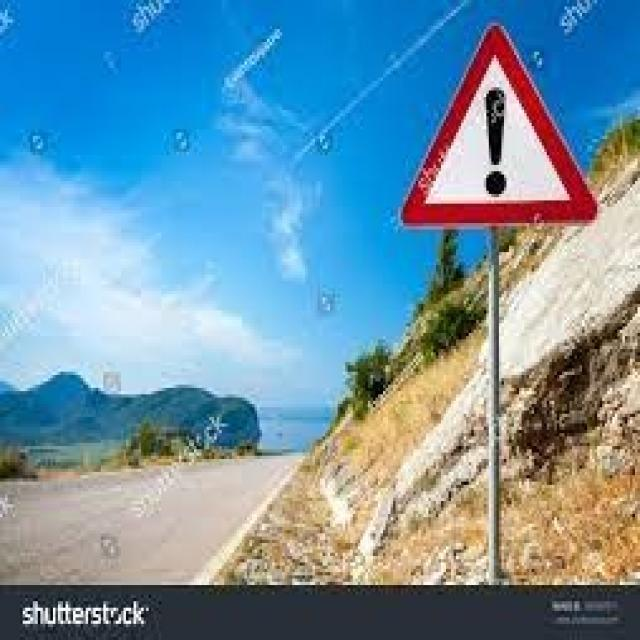warning: (391, 11, 604, 239)
